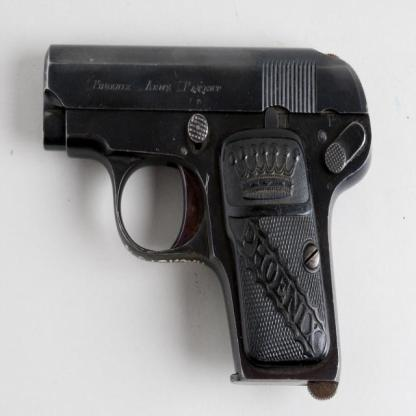weapon: (39, 43, 374, 403)
